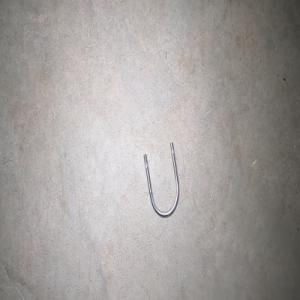ClampPart: (142, 141, 179, 218)
